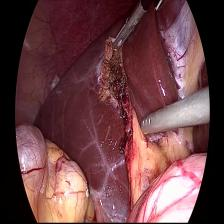Grasper: (110, 3, 146, 56)
Irrigator: (138, 108, 164, 138)
